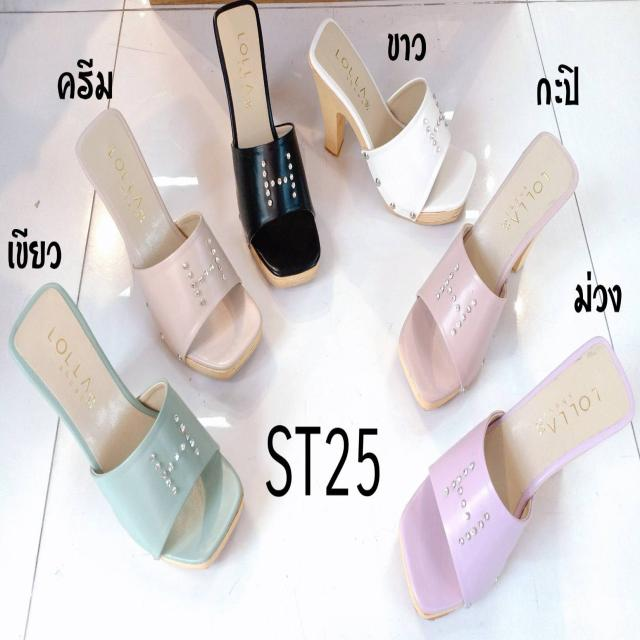black: (210, 11, 320, 283)
cream: (83, 112, 260, 372)
green: (13, 285, 242, 575)
kapi: (396, 132, 574, 405)
purple: (400, 340, 634, 618)
white: (312, 18, 470, 220)
